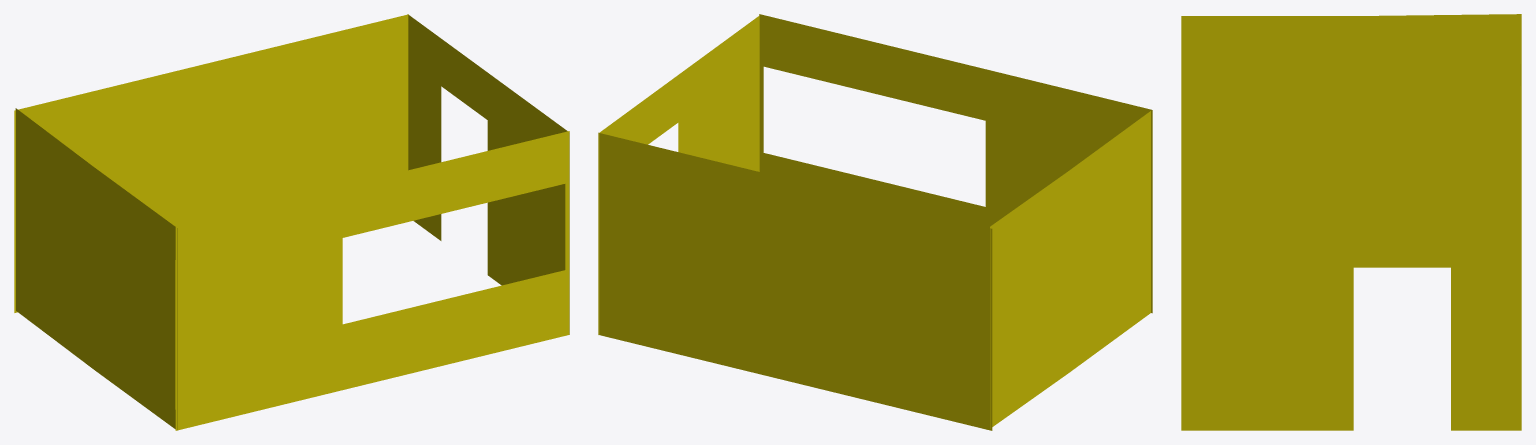
3 views of the same model, side by side, from view 1: azimuth 30°, elevation 25°; view 2: azimuth 150°, elevation 25°; view 3: azimuth 270°, elevation 25° (orthographic). The views are drawn at different scales.
Parts seen in each view (by area): view 1: BH05_WP_09; view 2: BH05_WP_09; view 3: BH05_WP_09.
Boxes of the visible parts, x1,y1,x2,y2 form: BH05_WP_09: [14, 14, 569, 430]; BH05_WP_09: [598, 14, 1152, 430]; BH05_WP_09: [1181, 14, 1521, 430].
Bounding box in the file's own units: 599 × 296 × 425.
